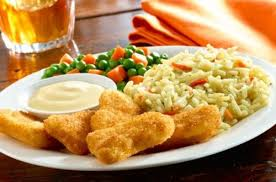chicken_nuggets: (89, 117, 168, 157), (159, 111, 226, 145), (5, 108, 54, 147), (51, 113, 99, 150), (92, 93, 142, 124)
